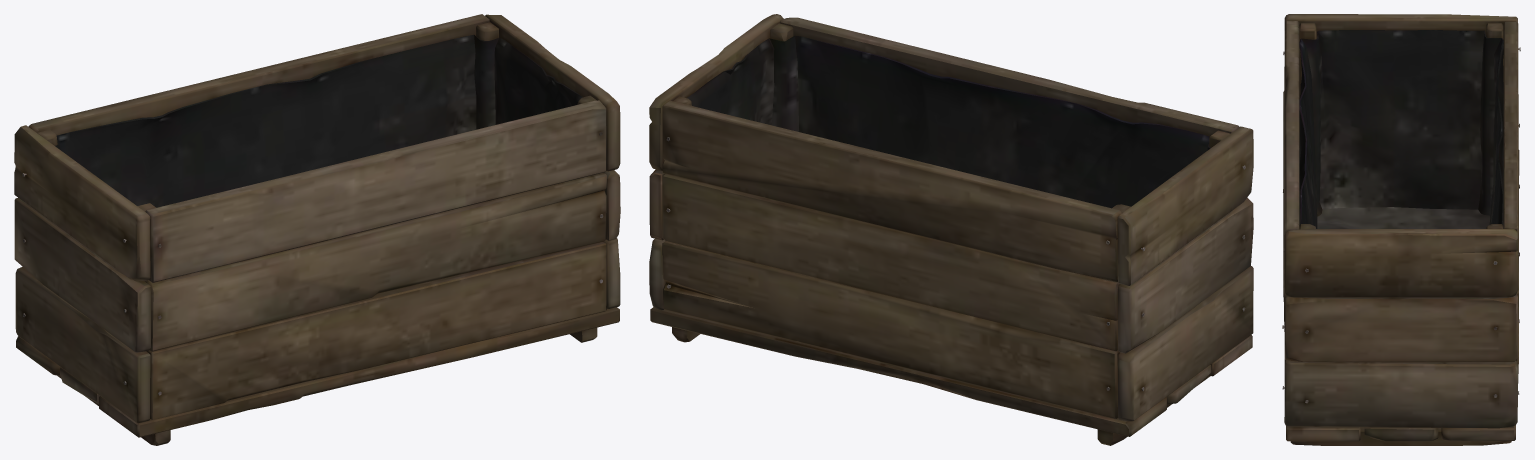
Rendered from planter-box.glb.
The picture shows the model from 3 angles, left to right: view 1: azimuth 30°, elevation 25°; view 2: azimuth 150°, elevation 25°; view 3: azimuth 270°, elevation 25°; orthographic projection. The views are drawn at different scales.
Visible parts, largest first — view 1: planter-box; view 2: planter-box; view 3: planter-box.
Part boxes in pixels (box(x1,y1,x2,y2)): planter-box: box(14, 14, 620, 445); planter-box: box(649, 14, 1253, 445); planter-box: box(1282, 14, 1520, 445).
Bounding box in the file's own units: 0.9126 × 0.425 × 0.4136.
1 material, 1 textured.
